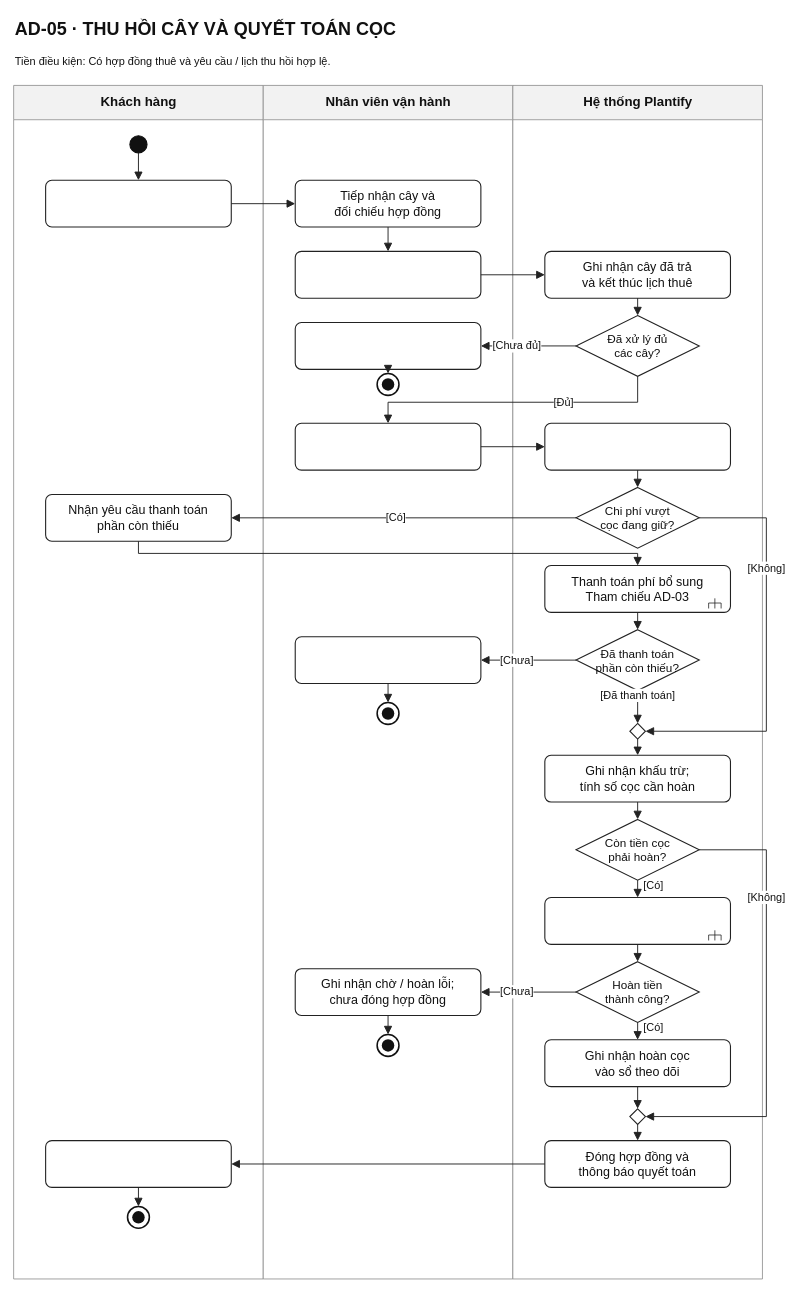
Image size: 799x1292. Some labels were removed from this diagram. The centre of each missing label's shape, as x and y in pixels:
Bàn giao cây để thu hồi: (x=138, y=203)
Ghi nhận còn cây / nghĩa vụ chưa xử lý: (x=387, y=345)
Ghi nhận công nợ; chưa đóng hợp đồng: (x=387, y=660)
Kiểm định từng cây; ghi nhận tình trạng: (x=387, y=274)
Nhận kết quả quyết toán hợp đồng: (x=138, y=1164)
Thực hiện hoàn tiền cọc qua đơn vị thanh toán: (x=637, y=921)
Tính cọc đang giữ và khoản khấu trừ: (x=637, y=446)
Xác định và duyệt các khoản phải thu: (x=387, y=446)
